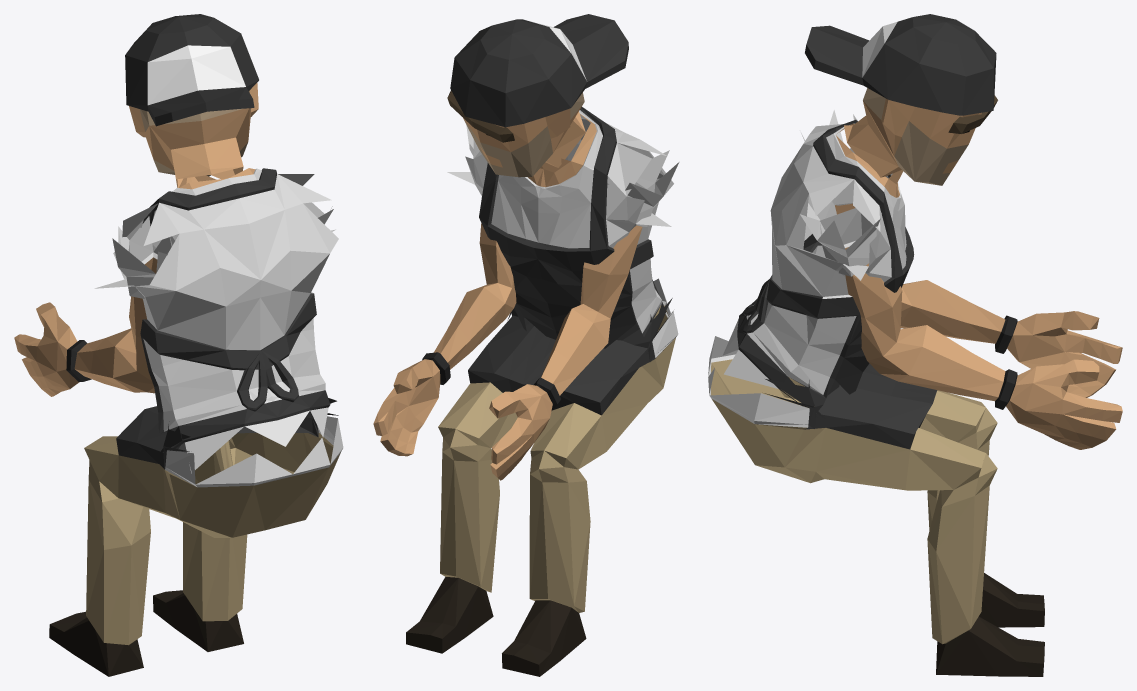
The model's file is Cop_bench.obj.
3 views of the same model, side by side, from view 1: azimuth 30°, elevation 25°; view 2: azimuth 150°, elevation 25°; view 3: azimuth 270°, elevation 25° (orthographic). The views are drawn at different scales.
Parts seen in each view (by area): view 1: Cop_bench; view 2: Cop_bench; view 3: Cop_bench.
Part boxes in pixels (x1,y1,x2,y2): Cop_bench: (14, 14, 343, 676); Cop_bench: (373, 14, 679, 676); Cop_bench: (708, 14, 1122, 676).
Bounding box in the file's own units: 0.5658 × 1.42 × 0.8535.
1 material, 1 textured.
